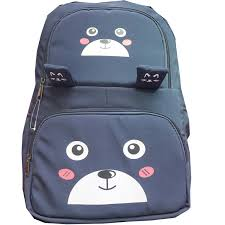bag: (19, 3, 196, 221)
